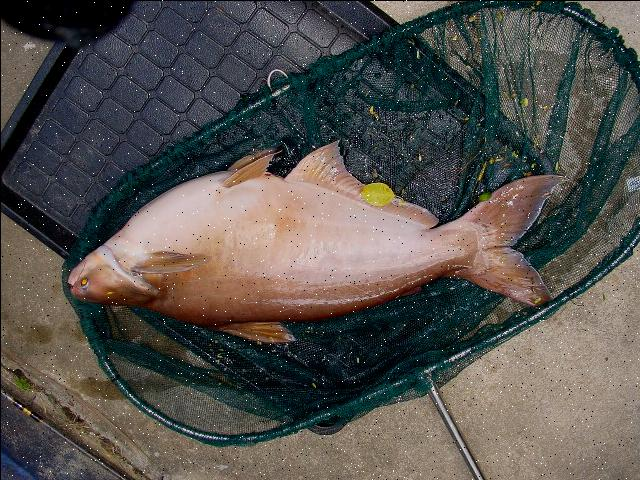Mulut: (58, 256, 86, 302)
Sirip Anal: (286, 138, 439, 228)
Sirip Dada: (131, 250, 206, 274)
Sirip Ekor: (447, 174, 569, 306)
Sirip Perut: (225, 153, 275, 188), (225, 147, 276, 170)
Sirip Punggung: (218, 320, 291, 342)
